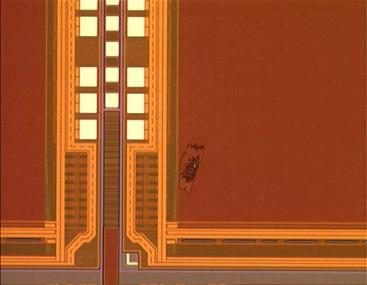PIQ PARTICLE: (175, 139, 206, 199)
